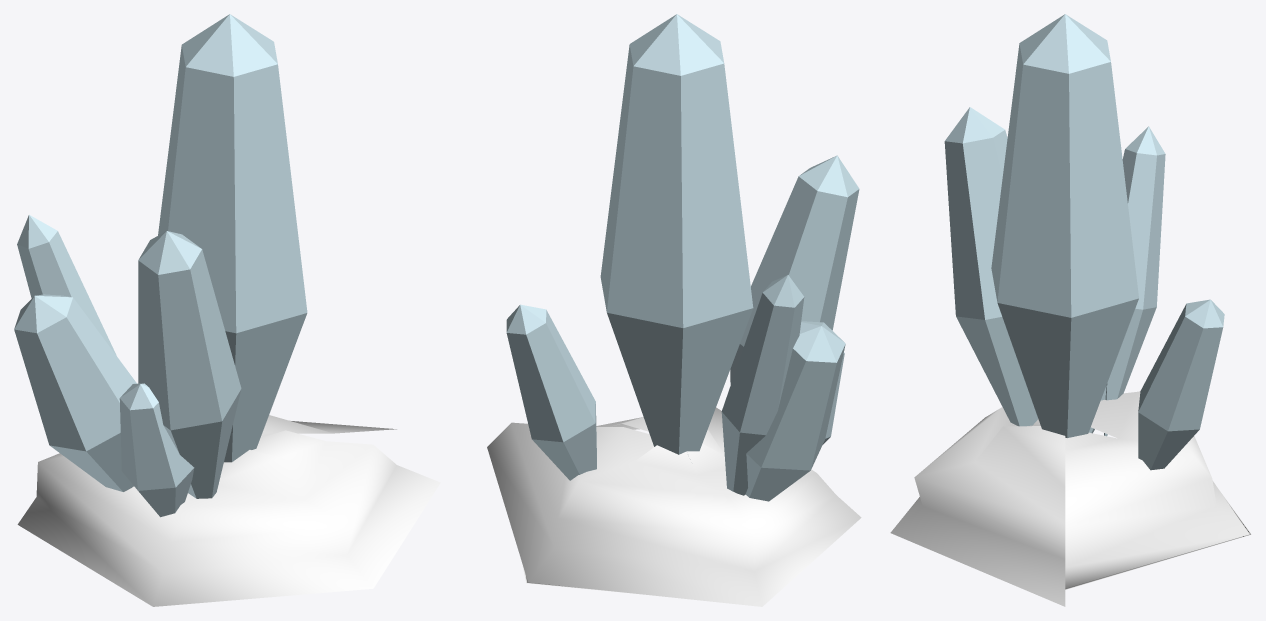
File: IceShard.glb
The picture shows the model from 3 angles, left to right: view 1: azimuth 30°, elevation 25°; view 2: azimuth 150°, elevation 25°; view 3: azimuth 270°, elevation 25°; orthographic projection. The views are drawn at different scales.
Visible parts, largest first — view 1: Ice, Body; view 2: Ice, Body; view 3: Ice, Body.
Boxes of the visible parts, left/top/right/bottom form: Ice: left=14, top=14, right=307, bottom=517; Body: left=17, top=415, right=440, bottom=606; Ice: left=506, top=14, right=859, bottom=501; Body: left=487, top=407, right=861, bottom=606; Ice: left=944, top=14, right=1224, bottom=470; Body: left=890, top=391, right=1251, bottom=606.
Bounding box in the file's own units: 18.23 × 22.64 × 14.98.
